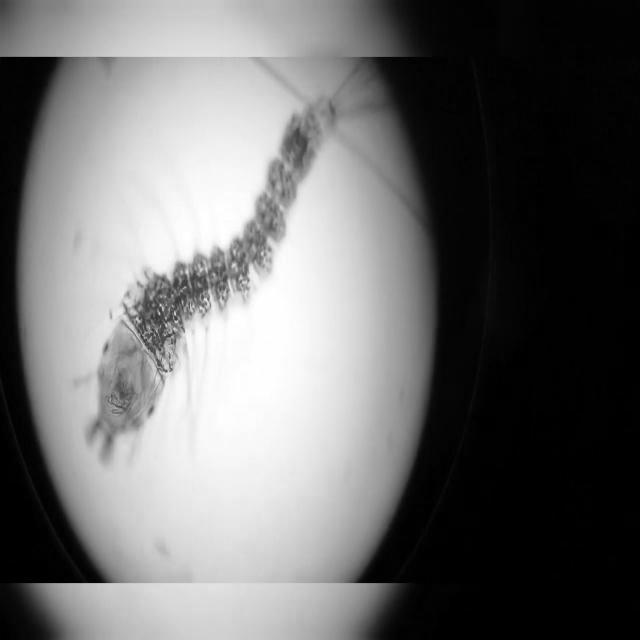larvas: (93, 105, 330, 443)
